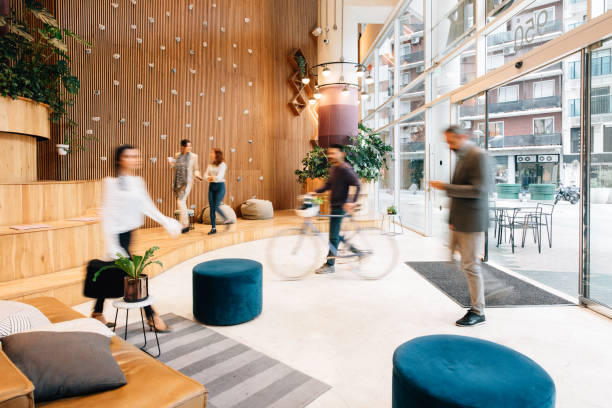without mask: (115, 136, 154, 176), (440, 125, 475, 159), (324, 140, 348, 166), (205, 147, 224, 168), (178, 138, 197, 159)
